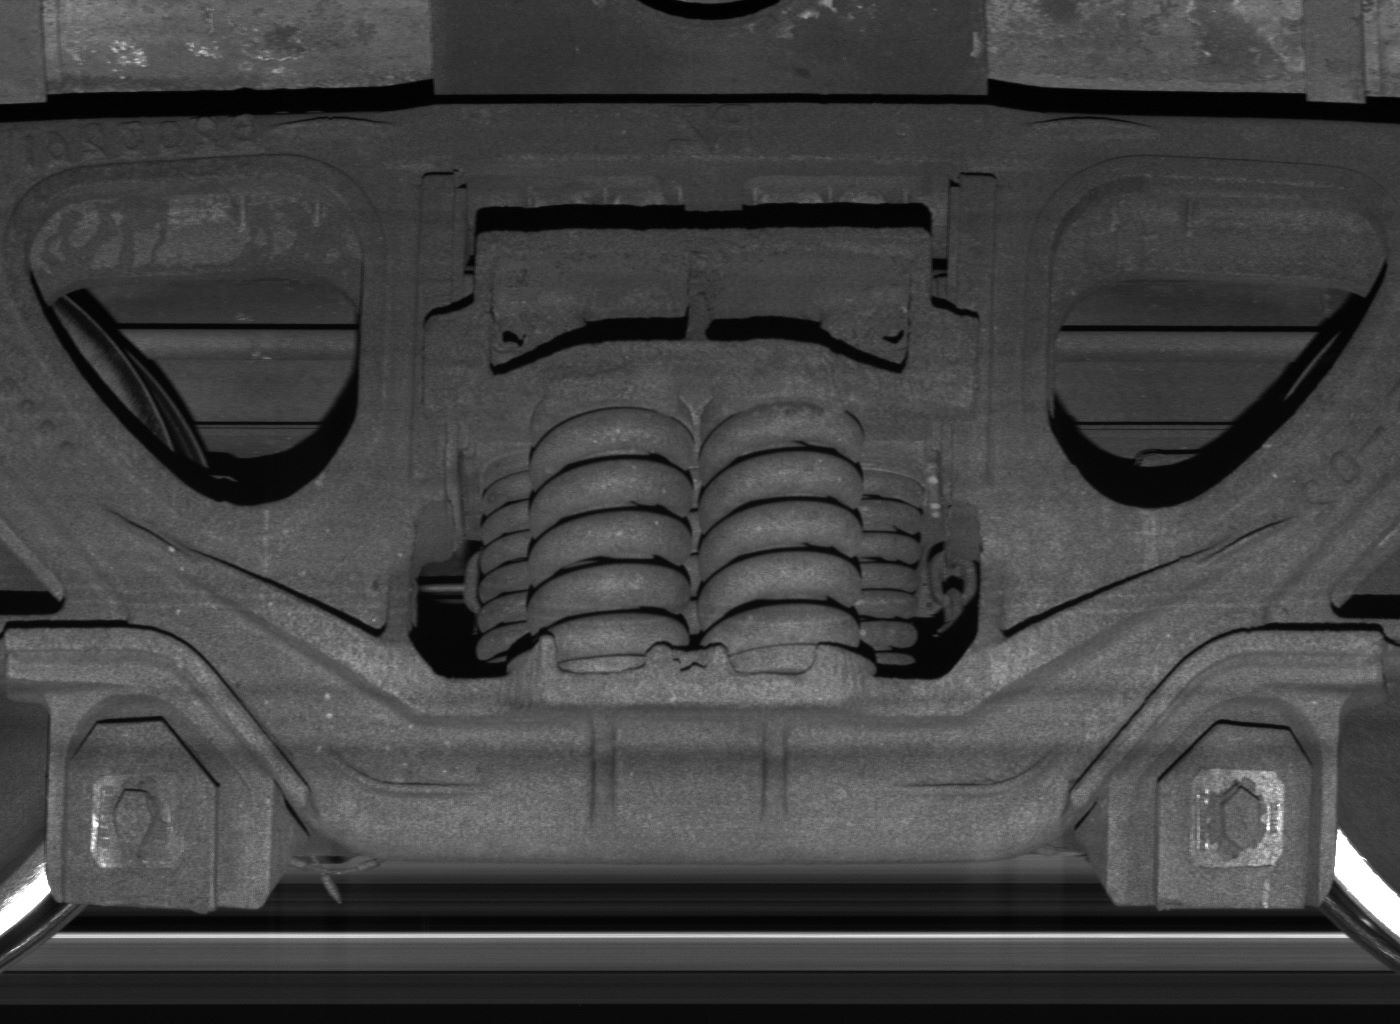normal: (45, 691, 276, 914), (1104, 694, 1336, 911)
